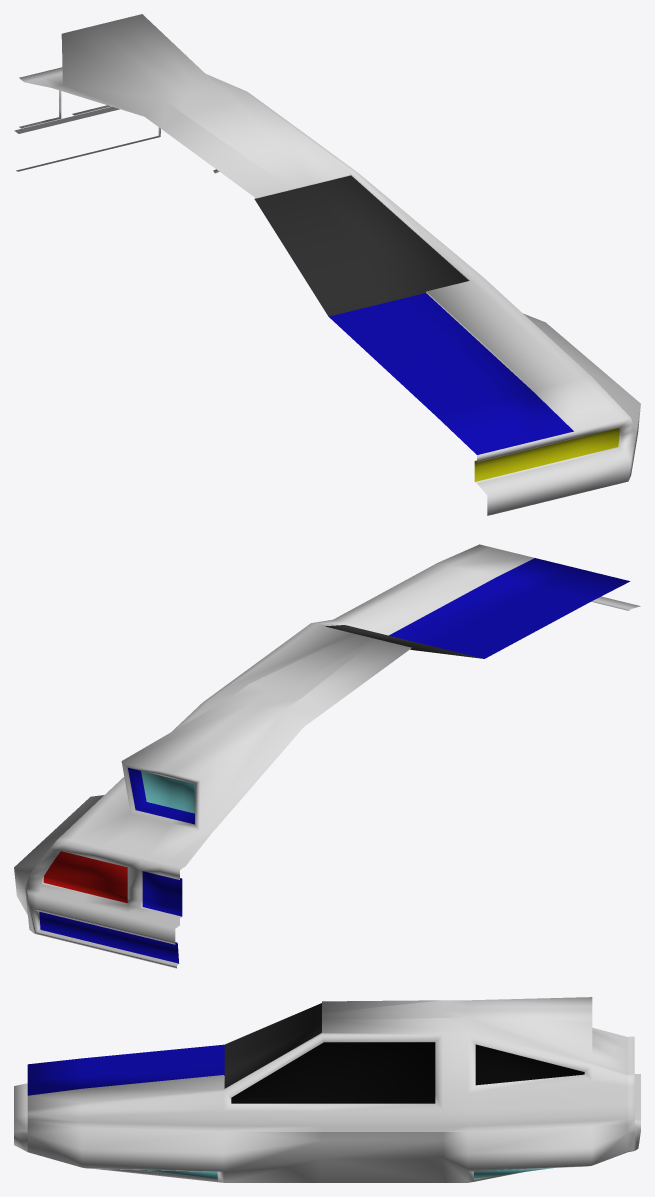
File: Carro.glb
The picture shows the model from 3 angles, top to bottom: view 1: azimuth 30°, elevation 25°; view 2: azimuth 150°, elevation 25°; view 3: azimuth 270°, elevation 25°; orthographic projection. The views are drawn at different scales.
Parts seen in each view (by area): view 1: DMC Sci-Fi Hover Car; view 2: DMC Sci-Fi Hover Car; view 3: DMC Sci-Fi Hover Car.
Boxes of the visible parts, bbox=[...] form: DMC Sci-Fi Hover Car: bbox=[14, 14, 640, 515]; DMC Sci-Fi Hover Car: bbox=[14, 544, 640, 968]; DMC Sci-Fi Hover Car: bbox=[14, 997, 640, 1182].
Bounding box in the file's own units: 1.1 × 1.03 × 4.17.
